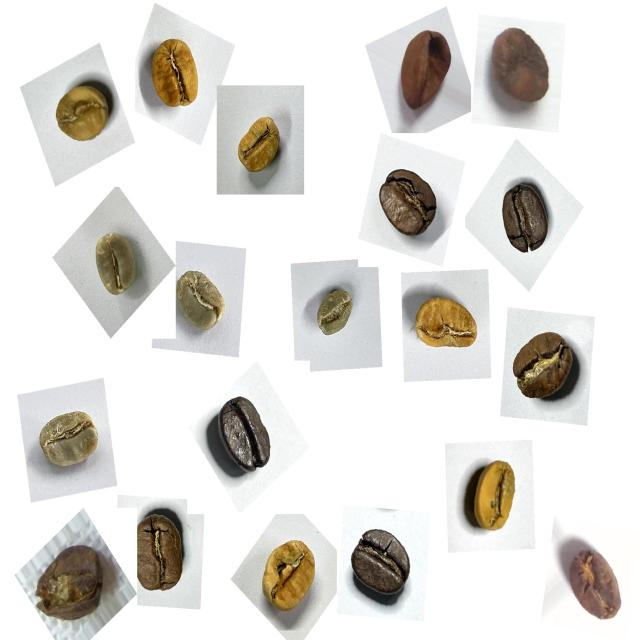bad: (26, 532, 112, 634), (480, 18, 558, 120), (386, 21, 460, 128), (555, 530, 632, 632)
dark: (338, 515, 419, 615), (487, 170, 565, 268), (204, 388, 281, 483)
green: (30, 392, 108, 484), (162, 260, 236, 348), (80, 222, 149, 307), (307, 277, 365, 351)
light: (248, 526, 328, 626), (452, 449, 530, 546), (139, 25, 215, 124), (402, 283, 485, 368), (44, 70, 121, 159), (228, 101, 297, 188)
medium: (501, 318, 590, 416), (121, 506, 198, 606), (372, 162, 449, 247)
